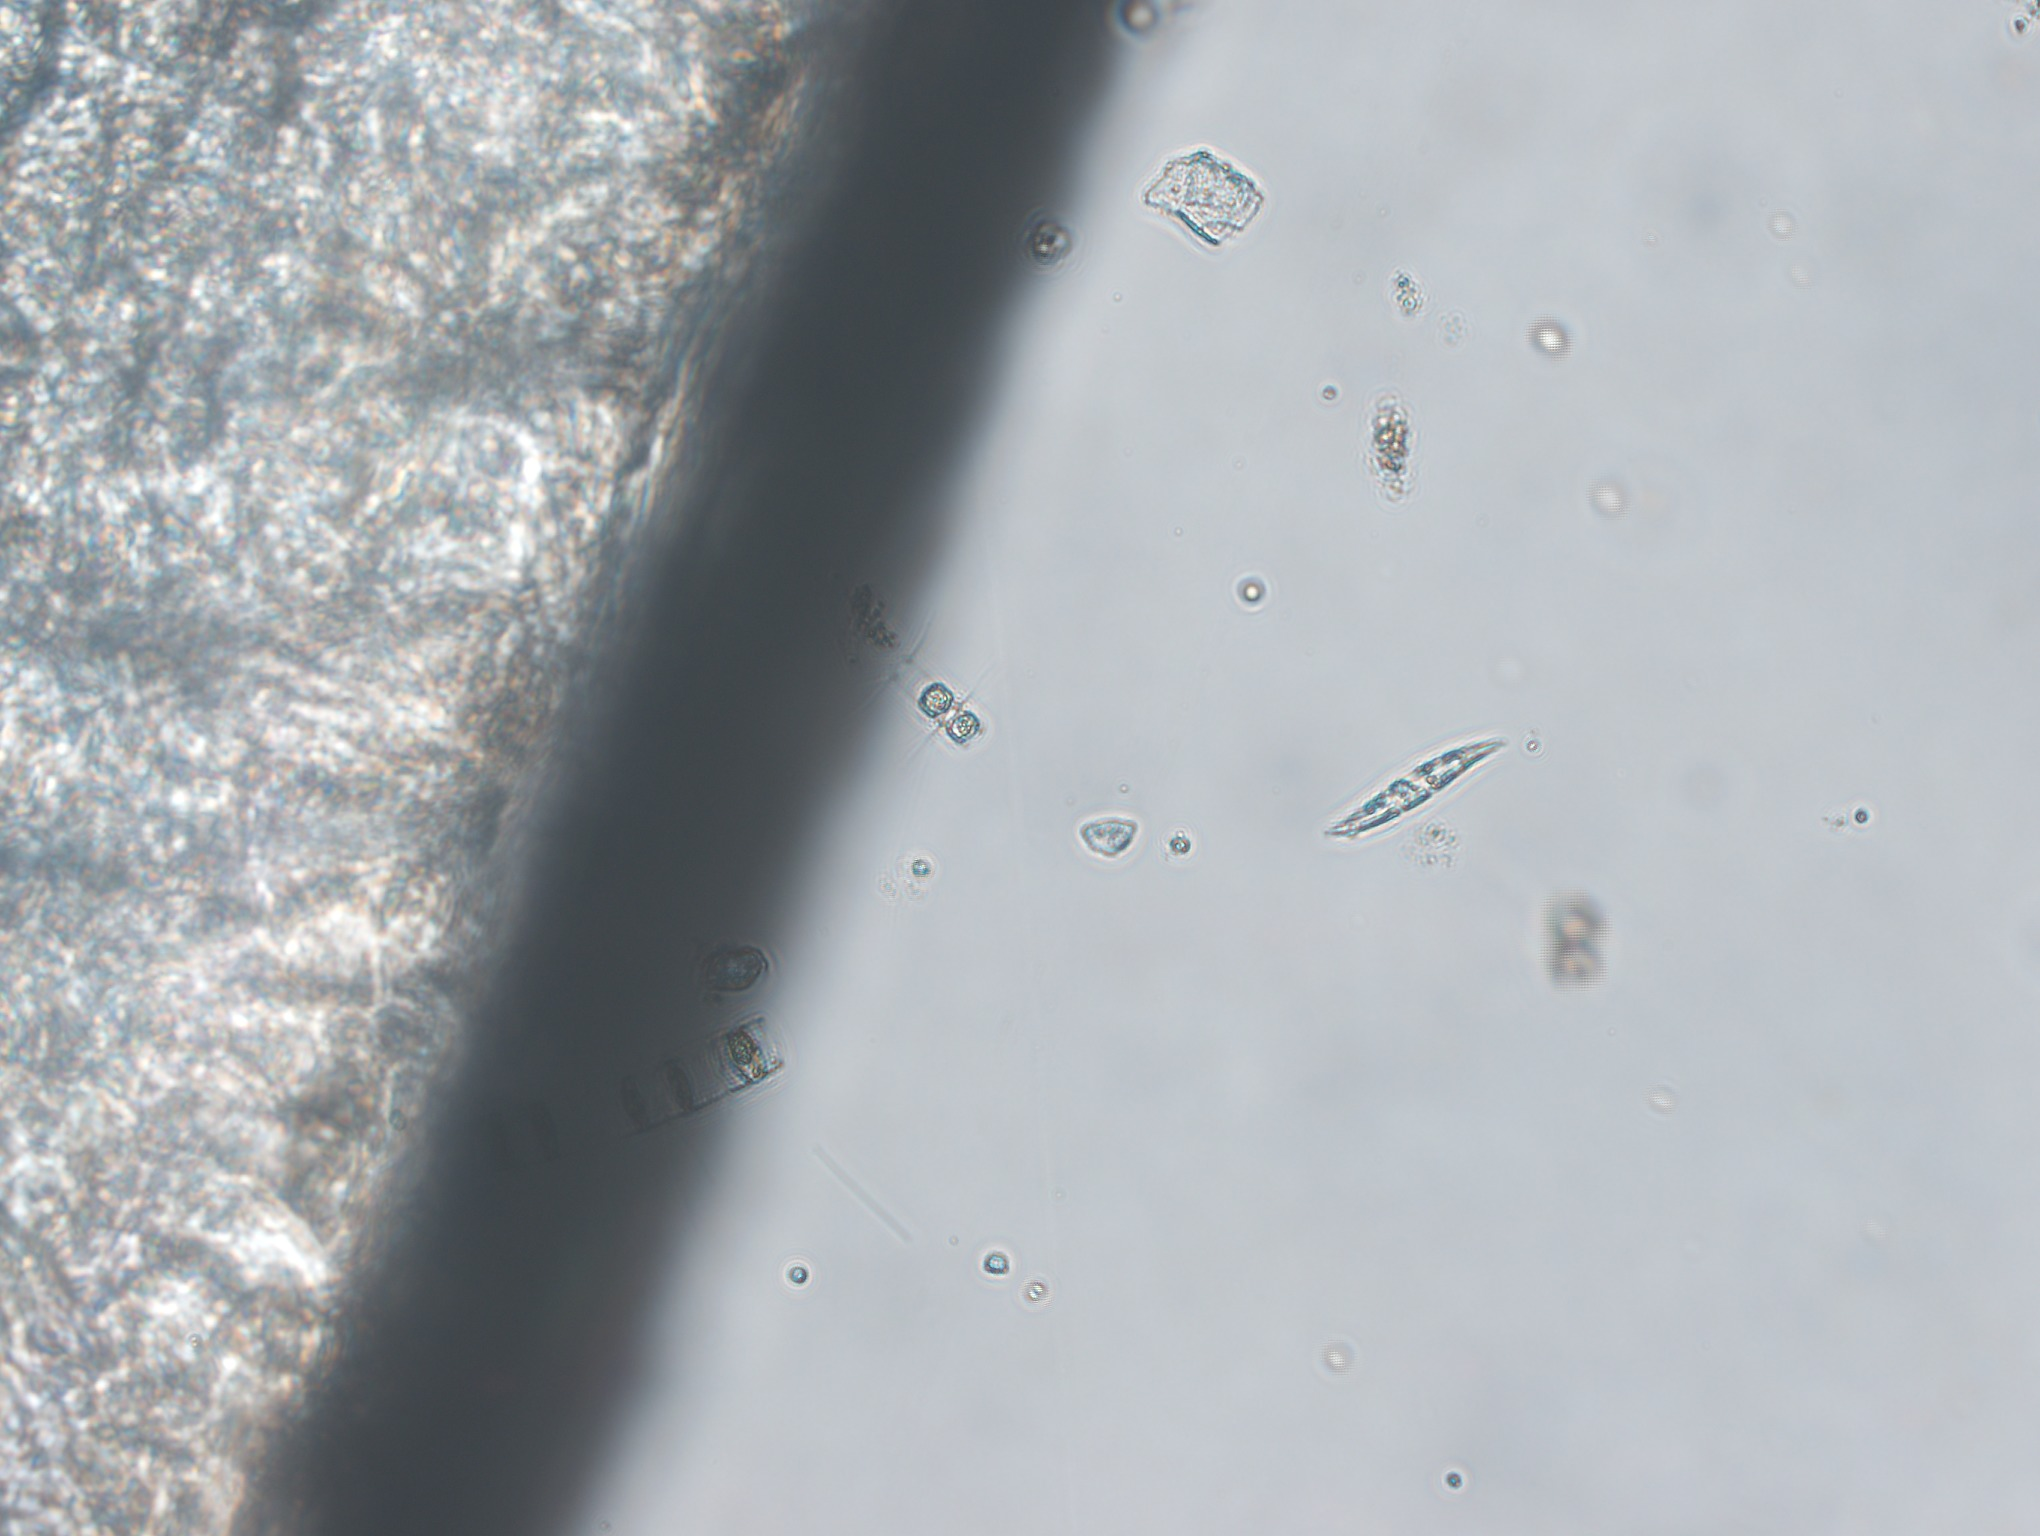chaetoceros: (835, 628, 1010, 787)
pleurosigma pelagicum: (1327, 728, 1508, 845)
